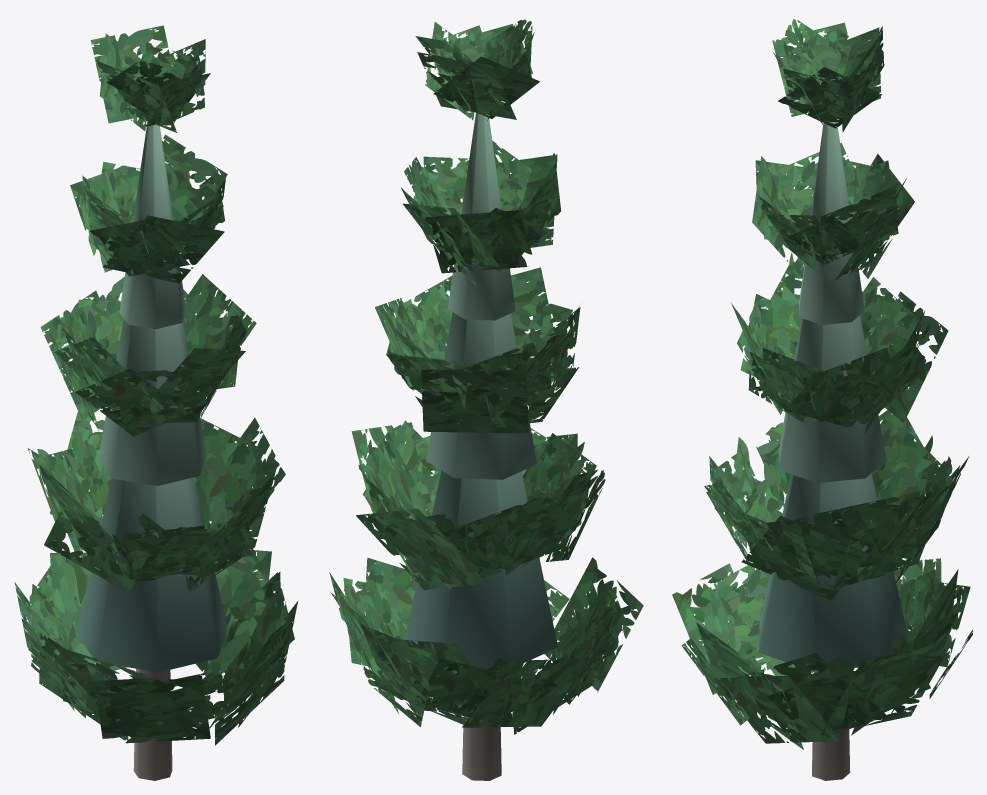
The model's file is veg-tree-conifer-lod.glb.
3 views of the same model, side by side, from view 1: azimuth 30°, elevation 25°; view 2: azimuth 150°, elevation 25°; view 3: azimuth 270°, elevation 25° (orthographic).
Visible parts, largest first — view 1: leaf-cards, canopy, trunk; view 2: leaf-cards, canopy, trunk; view 3: leaf-cards, canopy, trunk.
Boxes of the visible parts, x1,y1,x2,y2 form: leaf-cards: (14,25,297,745); canopy: (76,122,227,672); trunk: (133,121,172,780); leaf-cards: (329,19,643,734); canopy: (404,112,557,668); trunk: (462,668,501,780); leaf-cards: (672,19,972,749); canopy: (759,121,908,670); trunk: (812,670,850,780).
Bounding box in the file's own units: 3.29 × 9.01 × 3.29.
3 materials, 1 textured.
